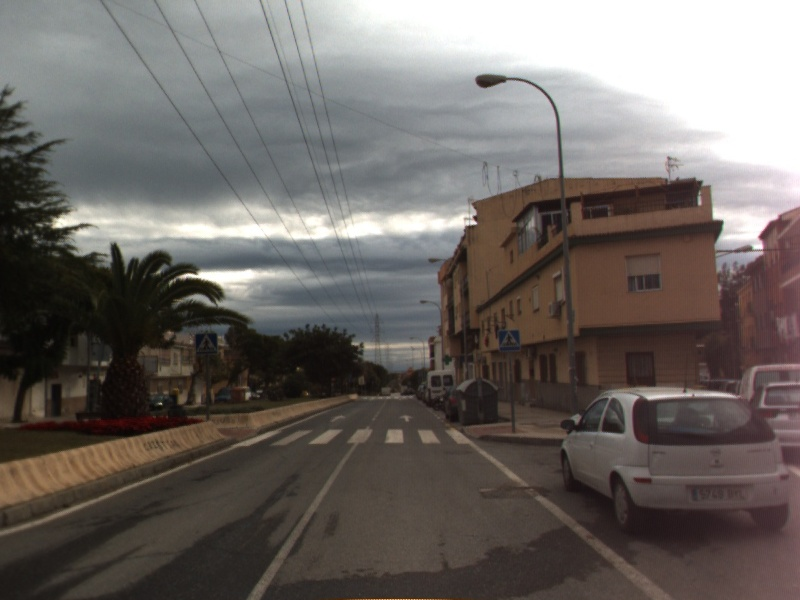STRAIGHT: (327, 413, 349, 424), (398, 412, 415, 423)
